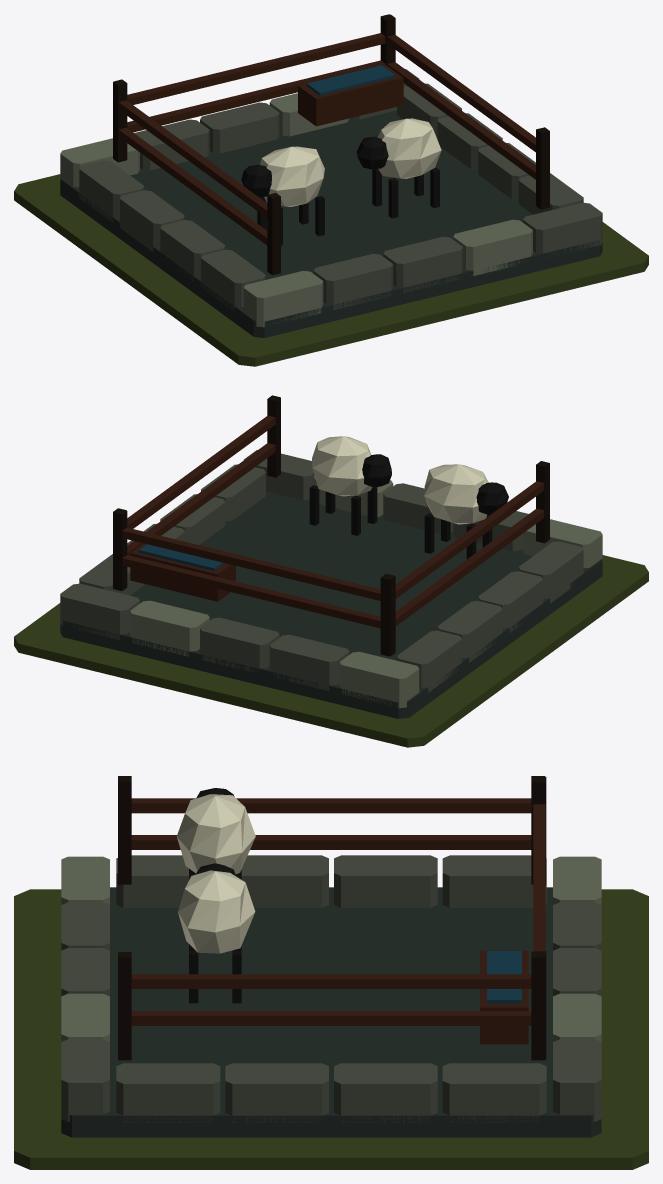
The model's file is pasture_t1.glb.
3 renders of one model, top to bottom at view 1: azimuth 30°, elevation 25°; view 2: azimuth 150°, elevation 25°; view 3: azimuth 270°, elevation 25°, orthographic. The views are drawn at different scales.
Visible parts, largest first — view 1: MMR | pasture | T01 Architecture.001, MMR | pasture | Tier 01 Ground.001; view 2: MMR | pasture | T01 Architecture.001, MMR | pasture | Tier 01 Ground.001; view 3: MMR | pasture | T01 Architecture.001, MMR | pasture | Tier 01 Ground.001.
Part boxes in pixels (left/top/right/bottom): MMR | pasture | T01 Architecture.001: left=60, top=14, right=602, bottom=337; MMR | pasture | Tier 01 Ground.001: left=14, top=174, right=648, bottom=366; MMR | pasture | T01 Architecture.001: left=60, top=395, right=602, bottom=718; MMR | pasture | Tier 01 Ground.001: left=14, top=555, right=648, bottom=747; MMR | pasture | T01 Architecture.001: left=61, top=776, right=601, bottom=1137; MMR | pasture | Tier 01 Ground.001: left=14, top=889, right=648, bottom=1169.
Size of the model in its own units: 2.35 by 0.755 by 2.35.
1 material, 1 textured.
